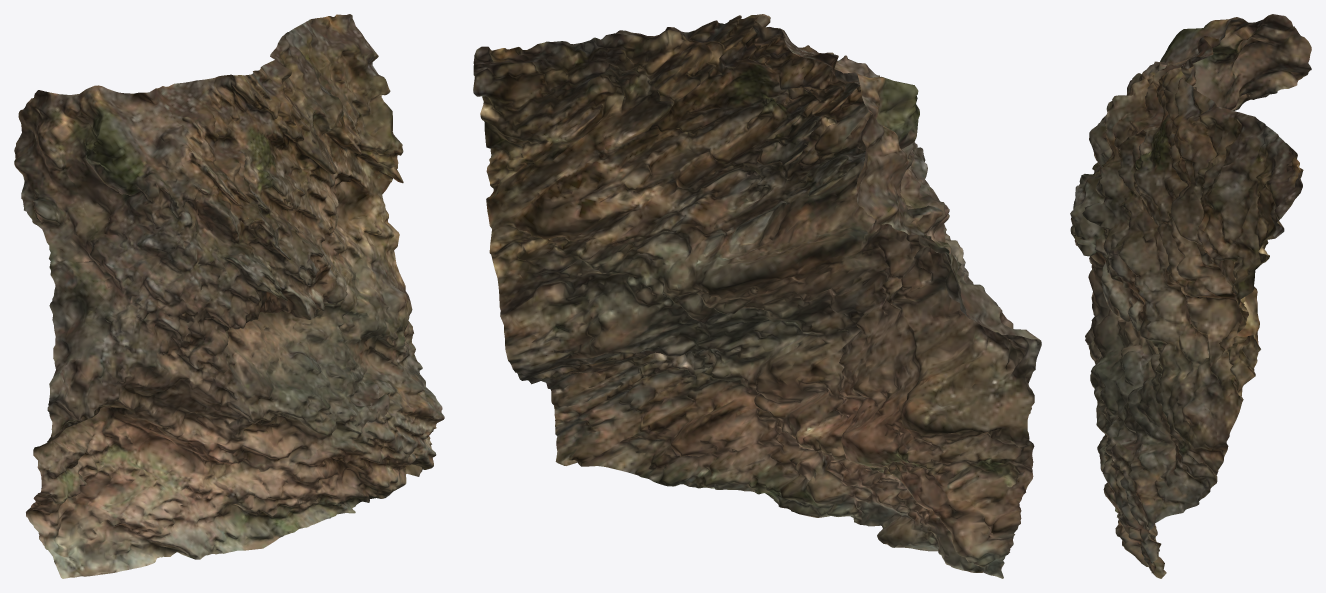
Rendered from mountainside.32c65bfcdb.glb.
3 views of the same model, side by side, from view 1: azimuth 30°, elevation 25°; view 2: azimuth 150°, elevation 25°; view 3: azimuth 270°, elevation 25° (orthographic). The views are drawn at different scales.
Visible parts, largest first — view 1: mountainside; view 2: mountainside; view 3: mountainside.
Boxes of the visible parts, bbox=[...] form: mountainside: bbox=[14, 14, 444, 578]; mountainside: bbox=[473, 14, 1041, 578]; mountainside: bbox=[1070, 14, 1311, 578].
Size of the model in its own units: 10.21 by 10.52 by 5.25.
1 material, 1 textured.
